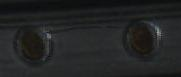joints: (9, 24, 53, 64), (122, 18, 163, 58)
